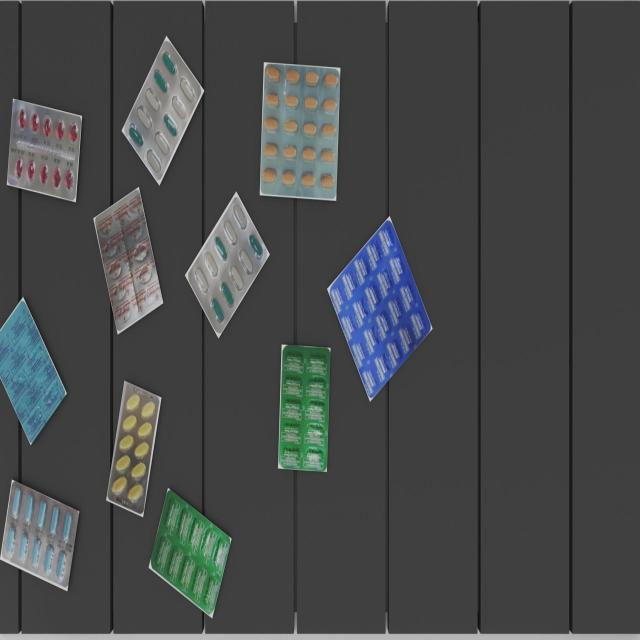blister: (331, 218, 431, 396), (124, 38, 202, 182), (148, 485, 231, 614), (189, 197, 266, 335), (262, 62, 340, 198), (93, 189, 164, 331), (0, 301, 64, 441), (2, 481, 78, 587), (6, 99, 81, 200), (109, 380, 158, 518), (280, 340, 330, 472)
